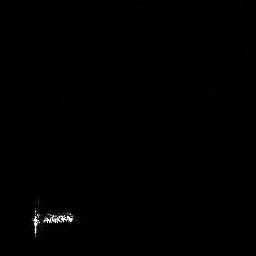ship: (26, 206, 79, 239)
